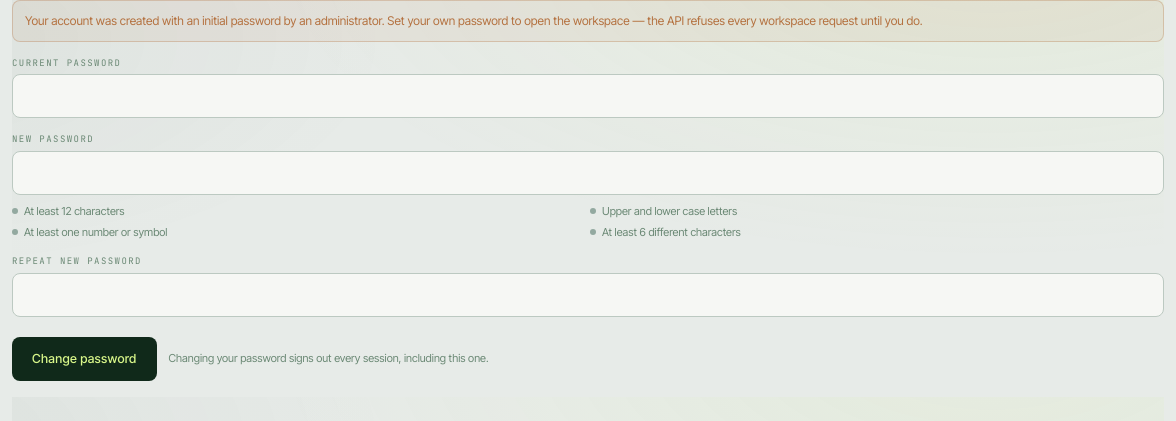
Test: password change form › rejects a weak new password locally
Type "InitialPass!2345" into the password field labelled "Current password".
click(588, 96); type("InitialPass!2345")  # box left=12, top=74, right=1164, bottom=118
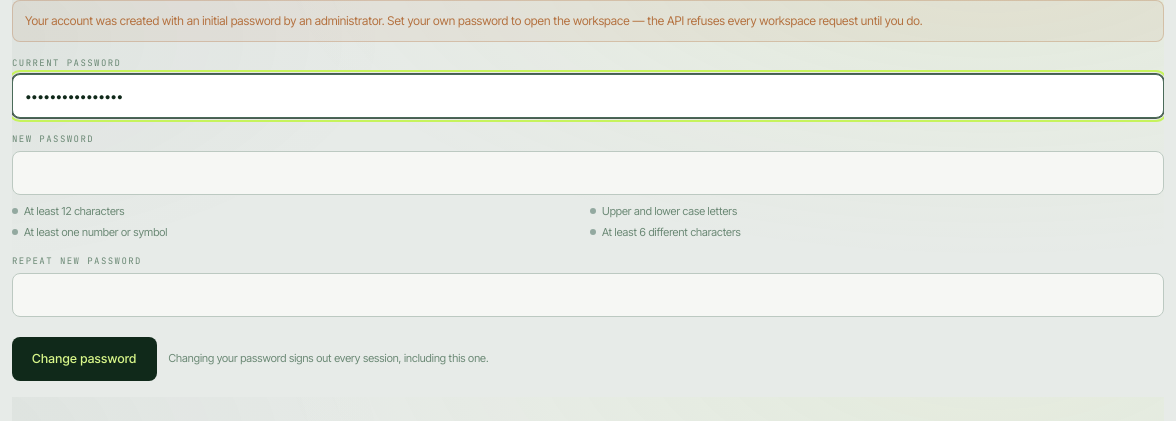
Type "alllowercasepass" into the password field labelled "New password".
click(588, 173); type("alllowercasepass")  # box left=12, top=151, right=1164, bottom=195
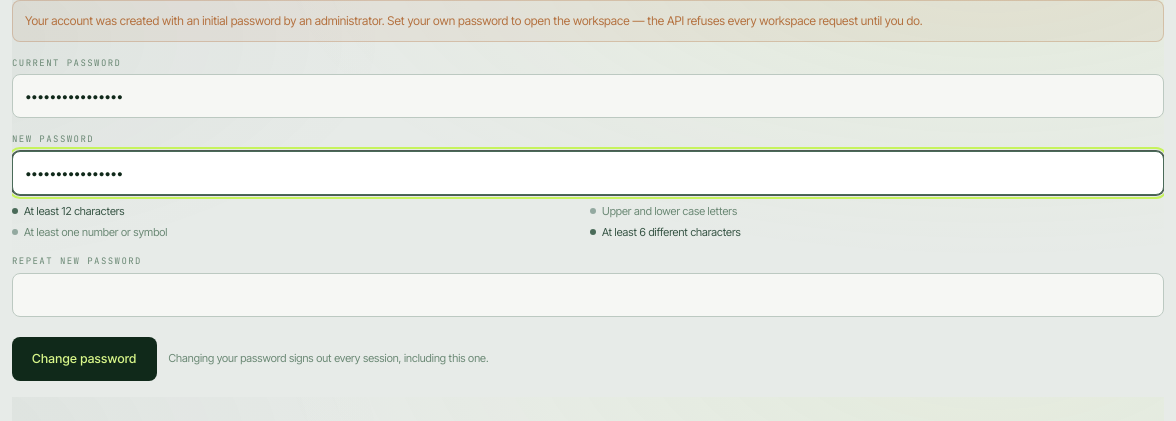
Type "alllowercasepass" into the password field labelled "Repeat new password".
click(588, 295); type("alllowercasepass")  # box left=12, top=273, right=1164, bottom=317
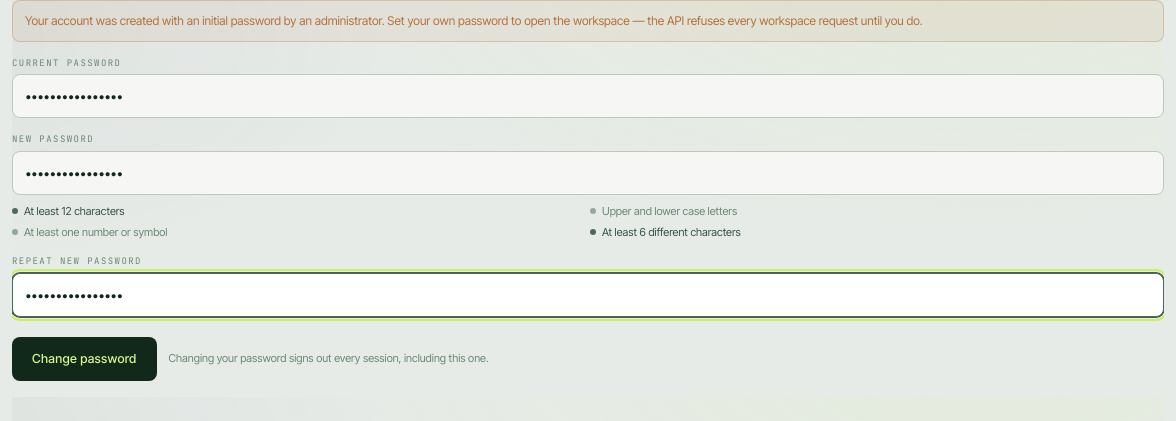
Click the button "Change password".
click(84, 359)  # box left=12, top=337, right=157, bottom=381
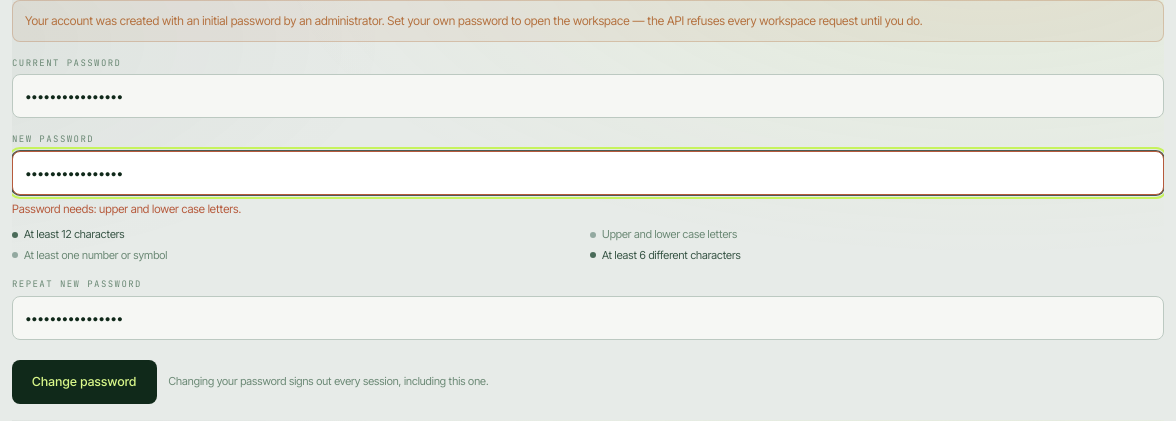
Expected: the text "Password needs: upper and lower case letters." is shown, left=12, top=202, right=241, bottom=216
